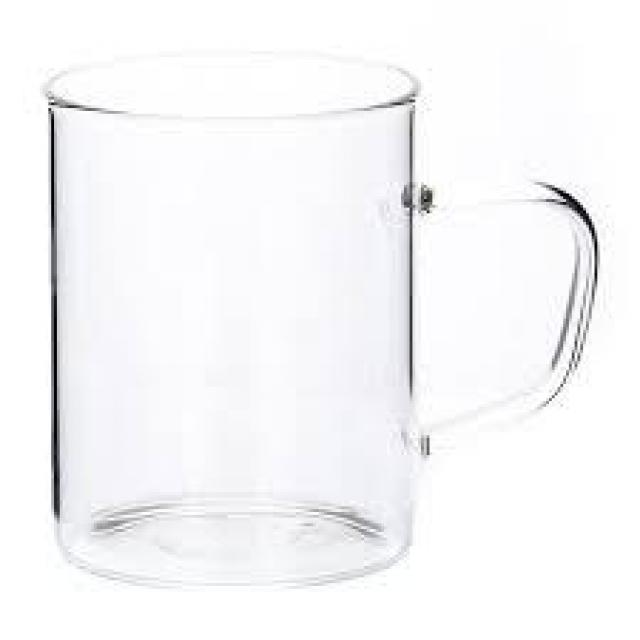non-organic waste: (38, 51, 604, 589)
